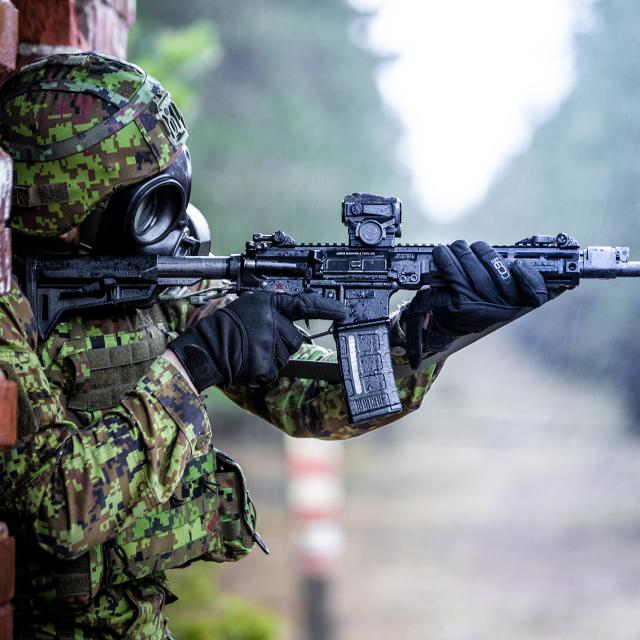Rifle: (25, 194, 640, 423)
